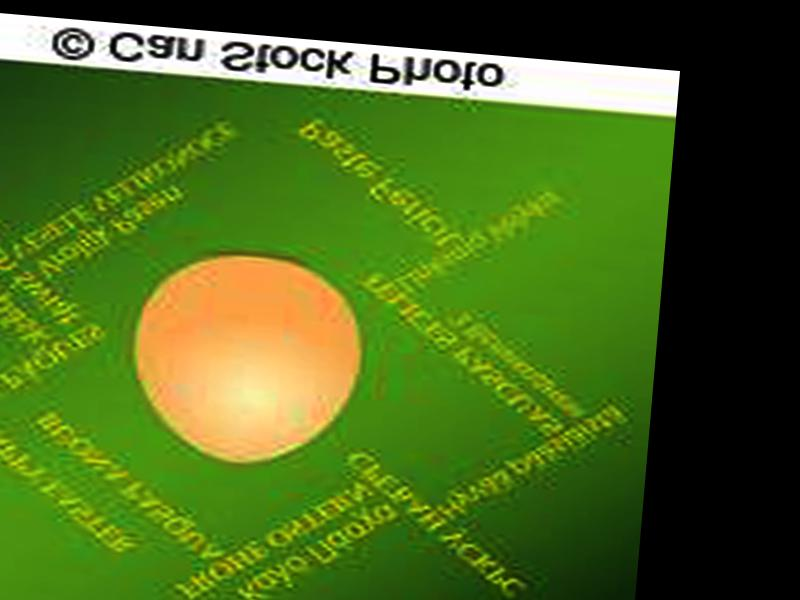Eggs: (126, 247, 365, 471)
